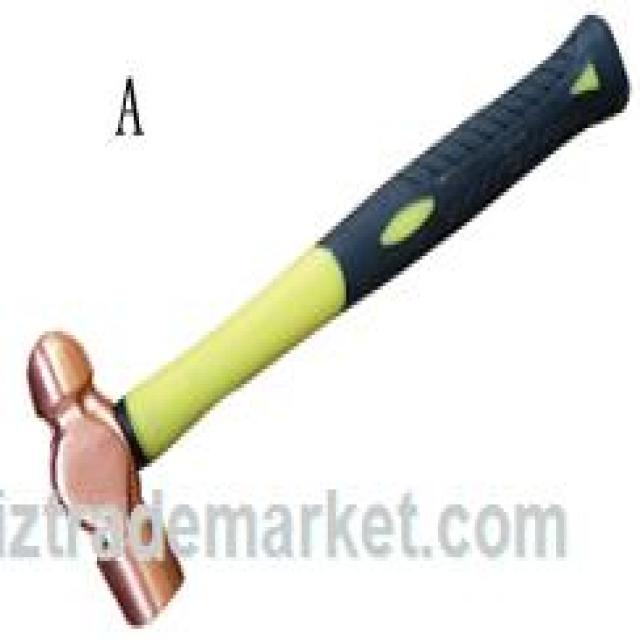Hammer: (15, 1, 640, 640)
